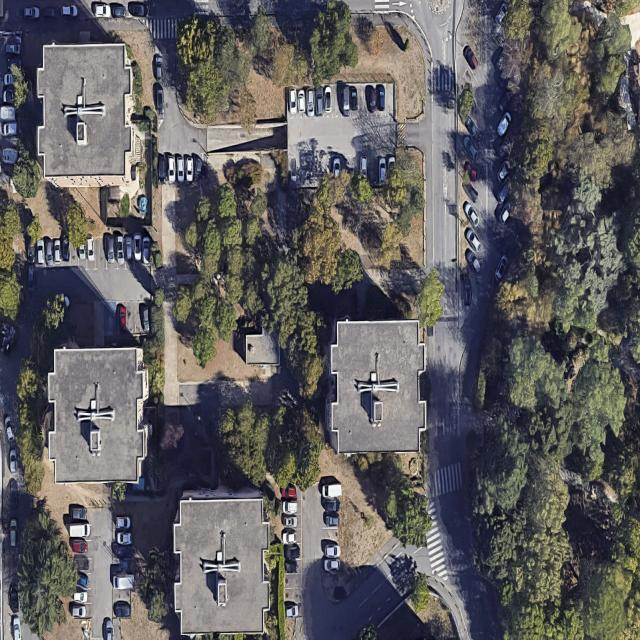immeuble: (34, 42, 138, 187), (46, 346, 150, 484), (173, 486, 269, 634), (327, 320, 426, 452), (244, 329, 280, 366)
